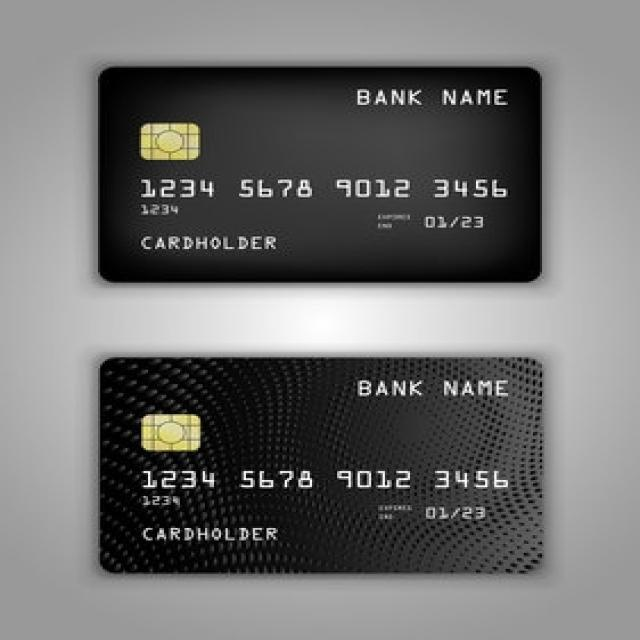payment_card: (97, 355, 545, 575), (96, 64, 543, 283)
